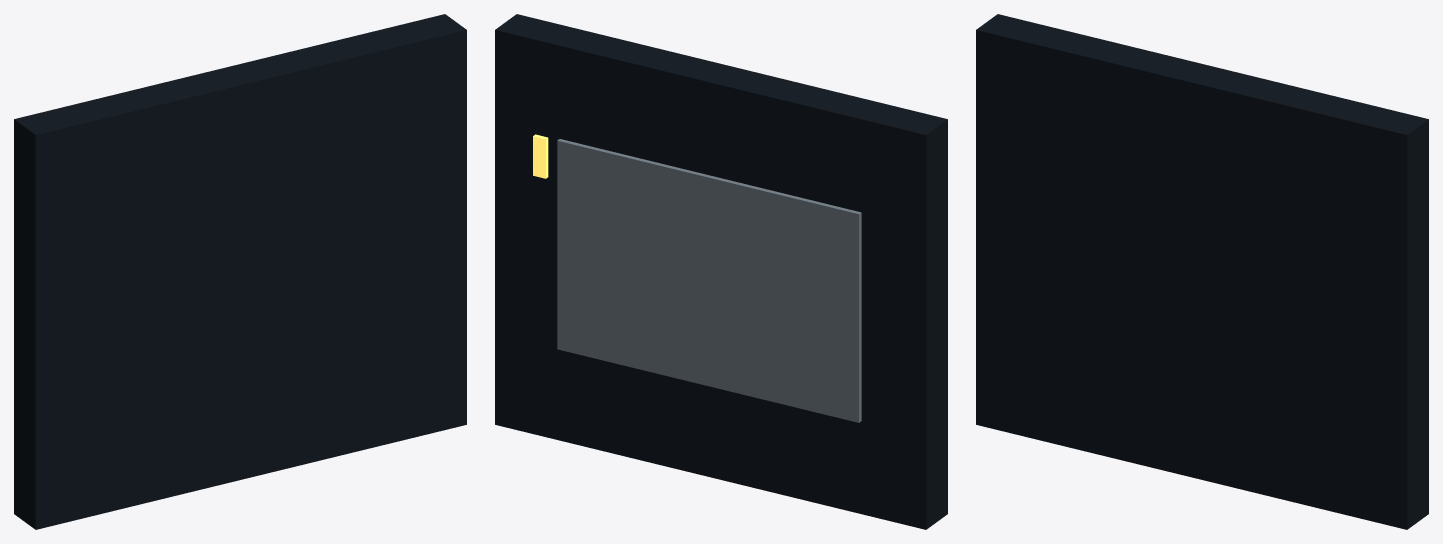
Rendered from np_kms_15_porte_accueil_couloirs.glb.
The picture shows the model from 3 angles, left to right: view 1: azimuth 30°, elevation 25°; view 2: azimuth 150°, elevation 25°; view 3: azimuth 330°, elevation 25°; orthographic projection.
Parts seen in each view (by area): view 1: Panneau; view 2: Panneau, Insert, VoyantAchat; view 3: Panneau.
Part boxes in pixels (x1=…): Panneau: x1=14, y1=14, x2=466, y2=529; Panneau: x1=495, y1=14, x2=947, y2=529; Insert: x1=557, y1=139, x2=861, y2=422; VoyantAchat: x1=533, y1=134, x2=548, y2=178; Panneau: x1=976, y1=14, x2=1428, y2=529.
Bounding box in the file's own units: 4 × 3.5 × 0.415.
